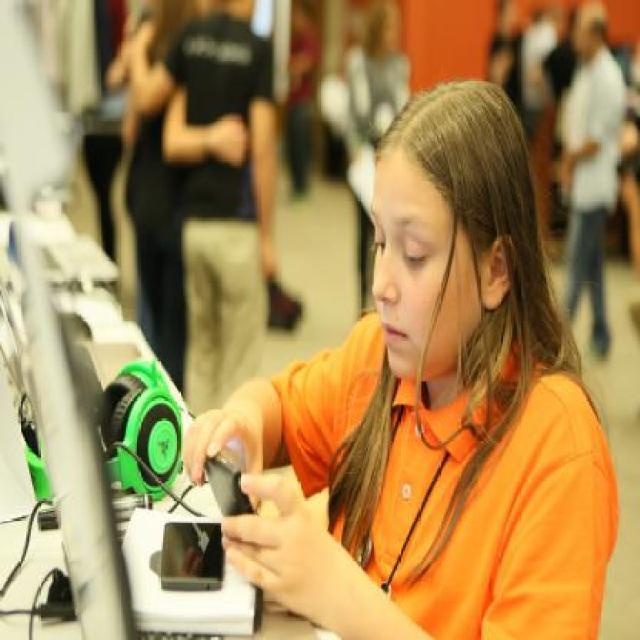earphone: (13, 365, 190, 500)
smart phone: (158, 512, 237, 600)
